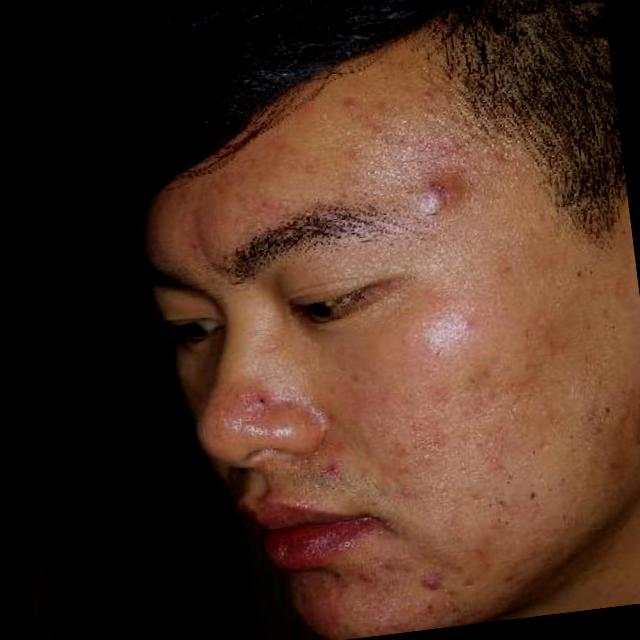darkspot: (605, 373, 640, 459), (358, 94, 401, 144), (350, 562, 384, 590), (416, 567, 448, 596), (317, 457, 349, 484), (244, 384, 274, 411), (336, 85, 358, 114)
nodules: (408, 152, 477, 232), (456, 310, 474, 332)
